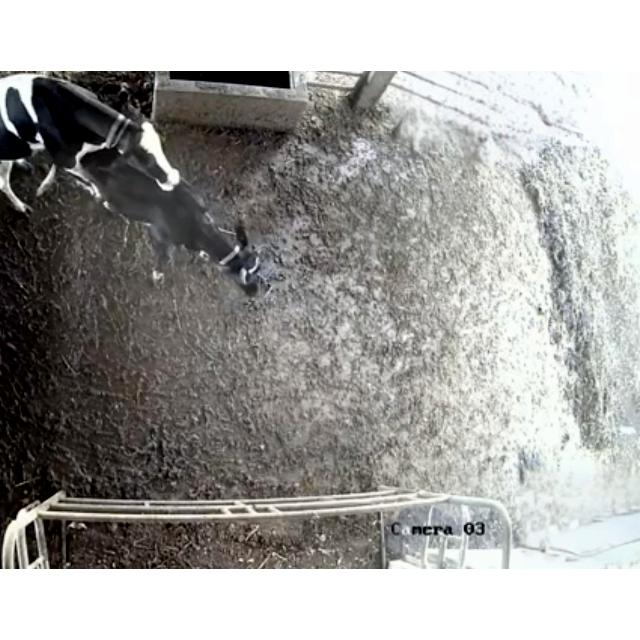ride: (0, 72, 182, 240)
